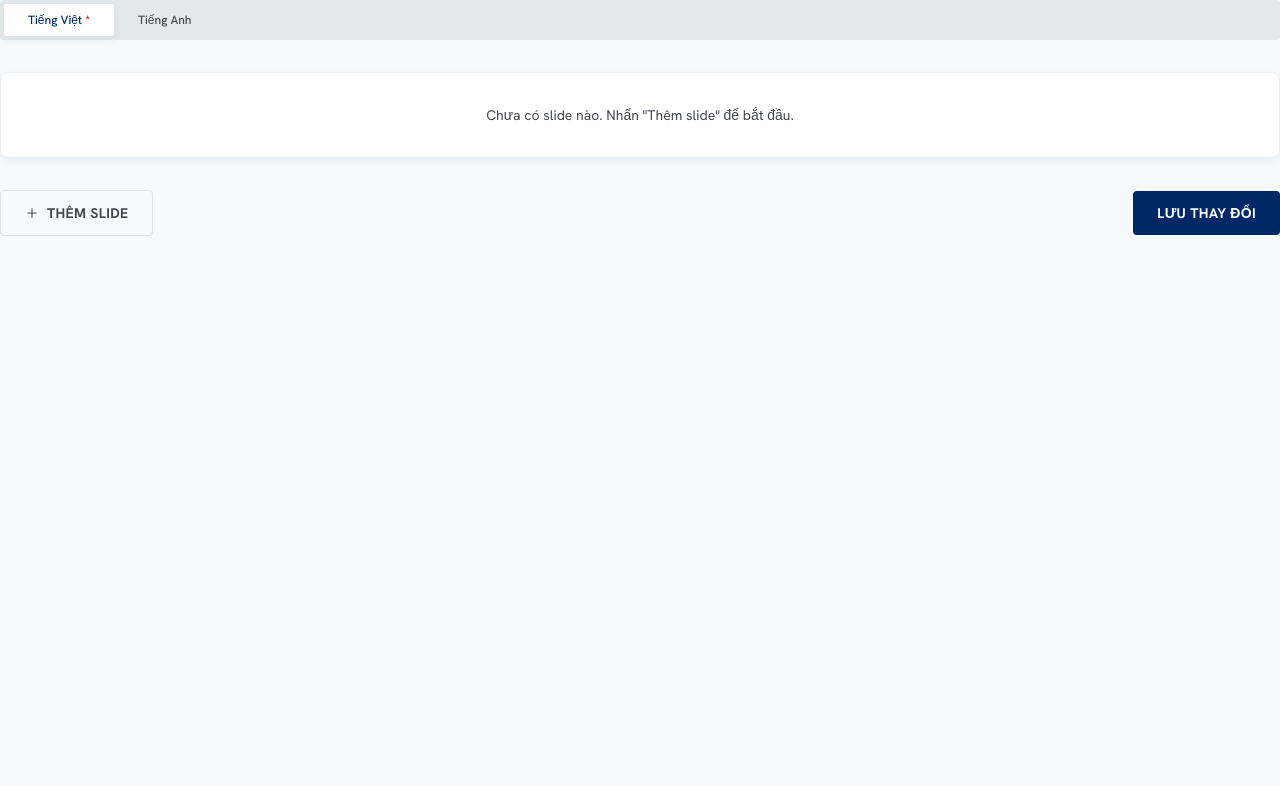
Test: HeroSlidesForm › slide list editing › adds a slide
Click the button "Thêm slide" at (77, 213), box x1=0 y1=190 x2=153 y2=236
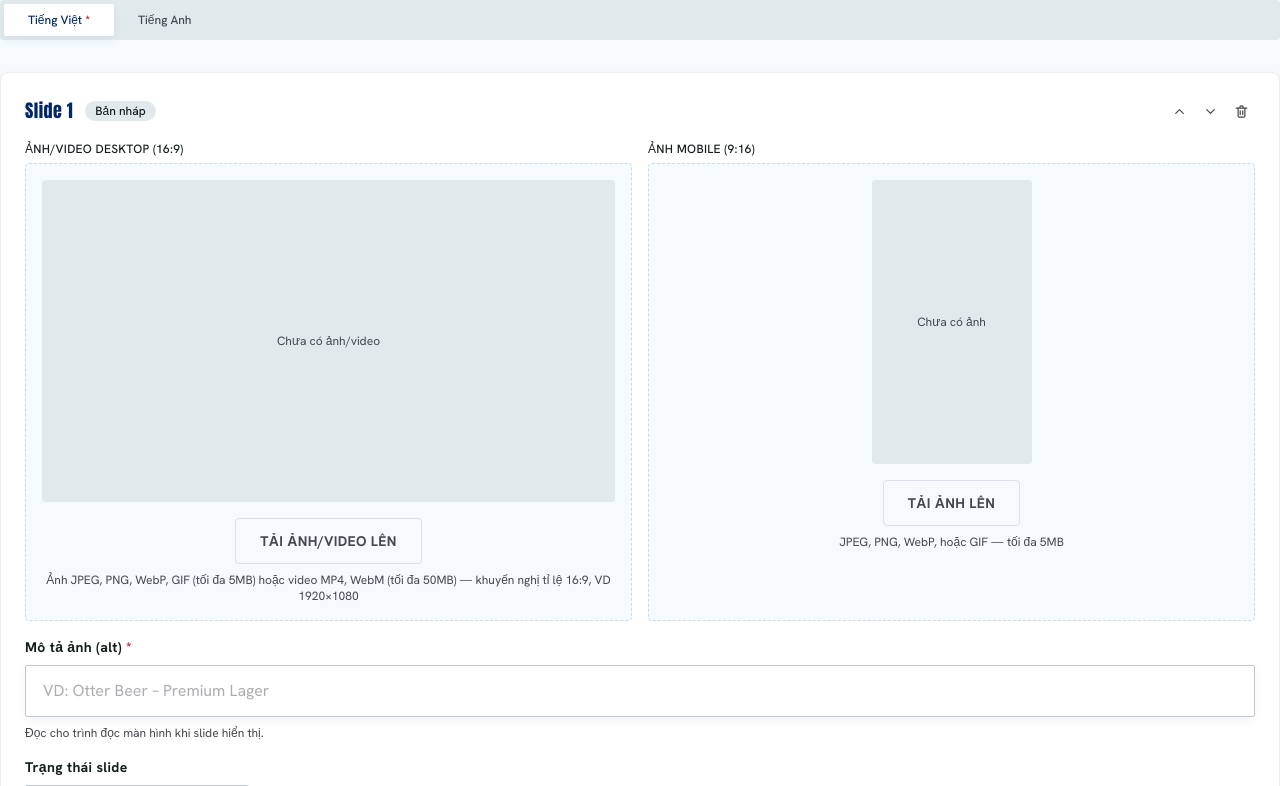
Check: the heading "Slide 1" is shown, box x1=25 y1=97 x2=73 y2=125
